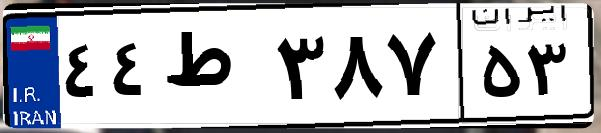3: (270, 28, 330, 110), (525, 38, 570, 115)
4: (57, 26, 110, 100), (110, 28, 158, 98)
5: (475, 38, 525, 113)
7: (385, 28, 445, 110)
8: (330, 28, 385, 110)
ط: (158, 20, 270, 120)
